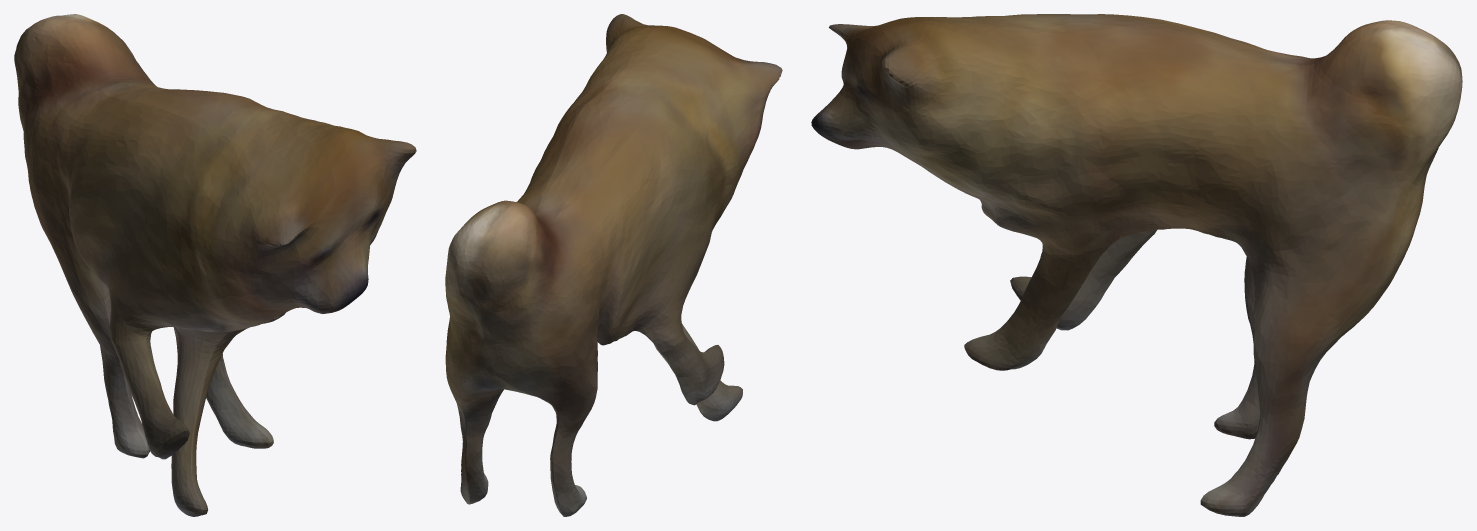
Rendered from shiba-haru-1002-mesh-00003.obj.
3 views of the same model, side by side, from view 1: azimuth 30°, elevation 25°; view 2: azimuth 150°, elevation 25°; view 3: azimuth 270°, elevation 25° (orthographic). The views are drawn at different scales.
Size of the model in its own units: 0.0364 by 0.0761 by 0.0965.
